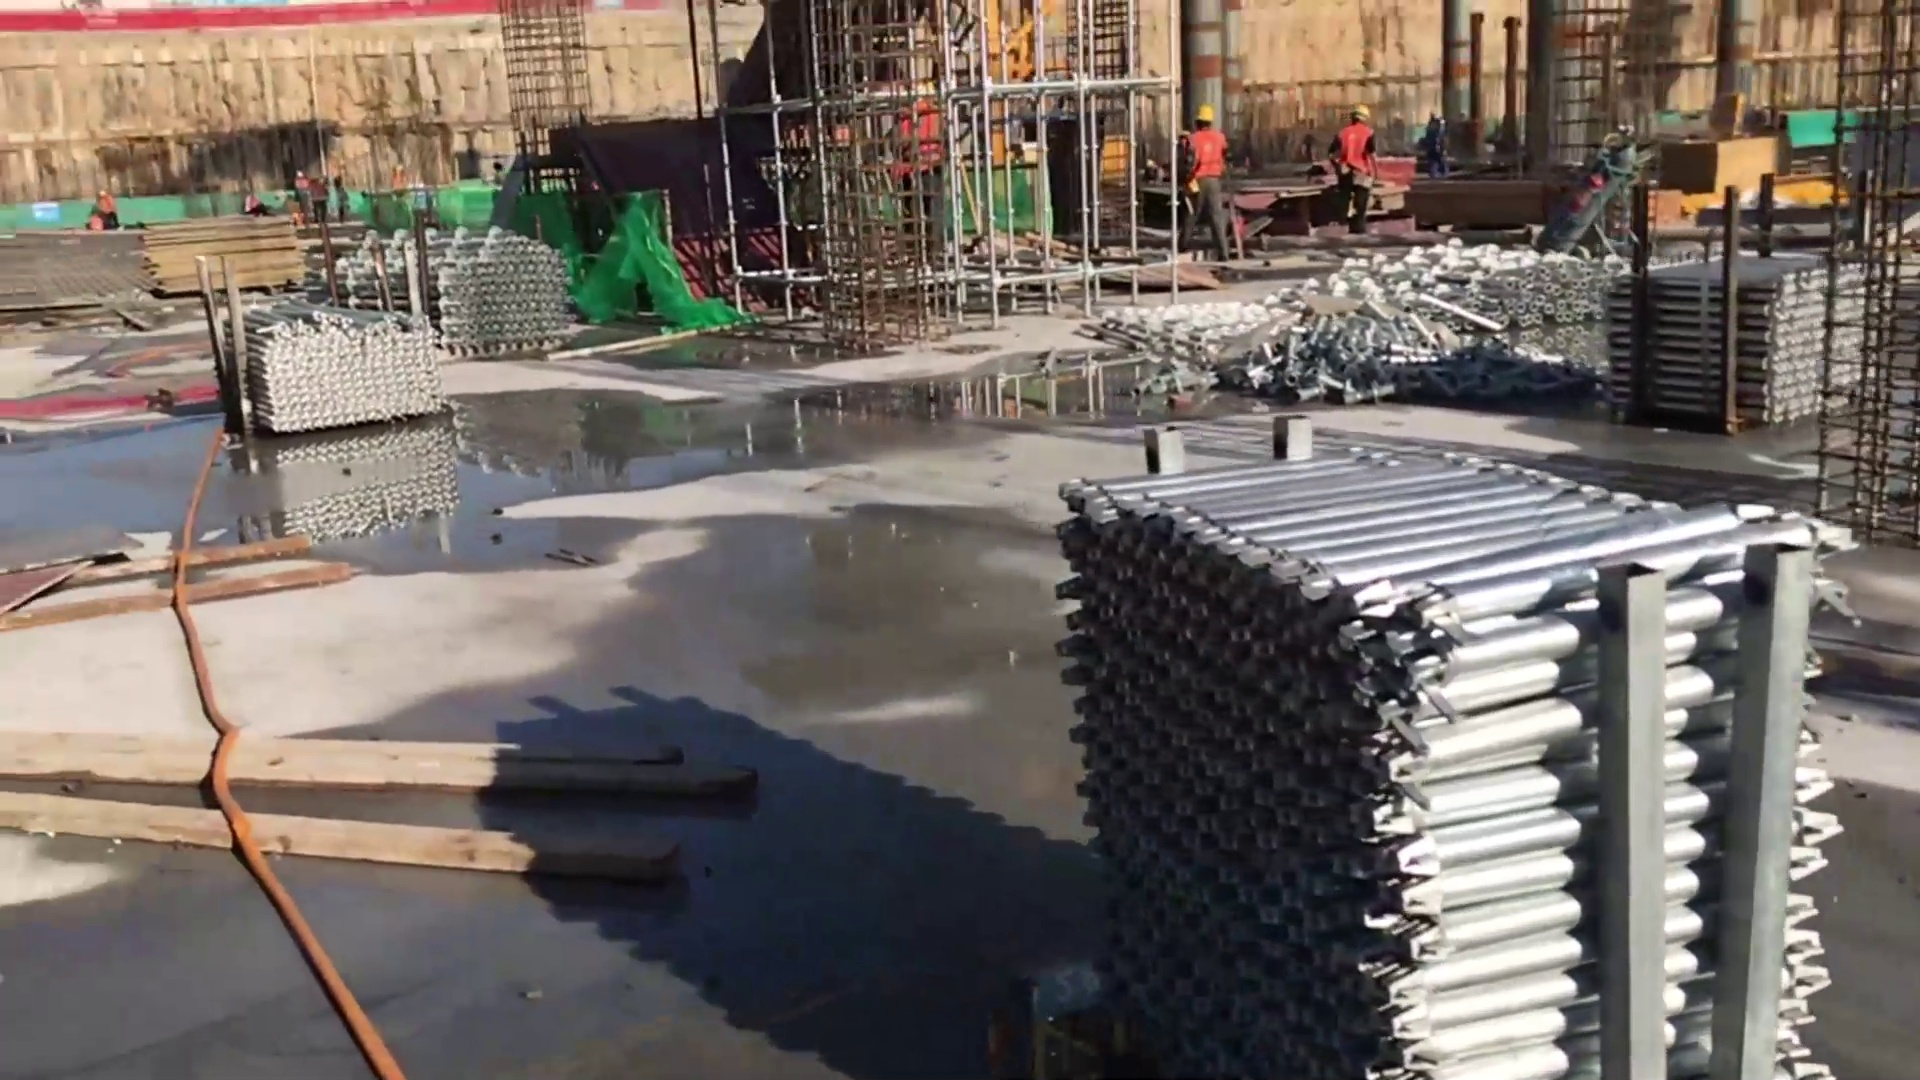board: (146, 216, 308, 299)
helmet: (1193, 106, 1215, 123), (1351, 103, 1370, 119)
person: (1179, 100, 1229, 246), (1332, 96, 1381, 222)
scaffold: (1038, 423, 1881, 1080), (1609, 261, 1852, 422), (232, 312, 439, 430), (435, 237, 571, 358)
vest: (1338, 124, 1375, 179), (1185, 132, 1224, 184)
